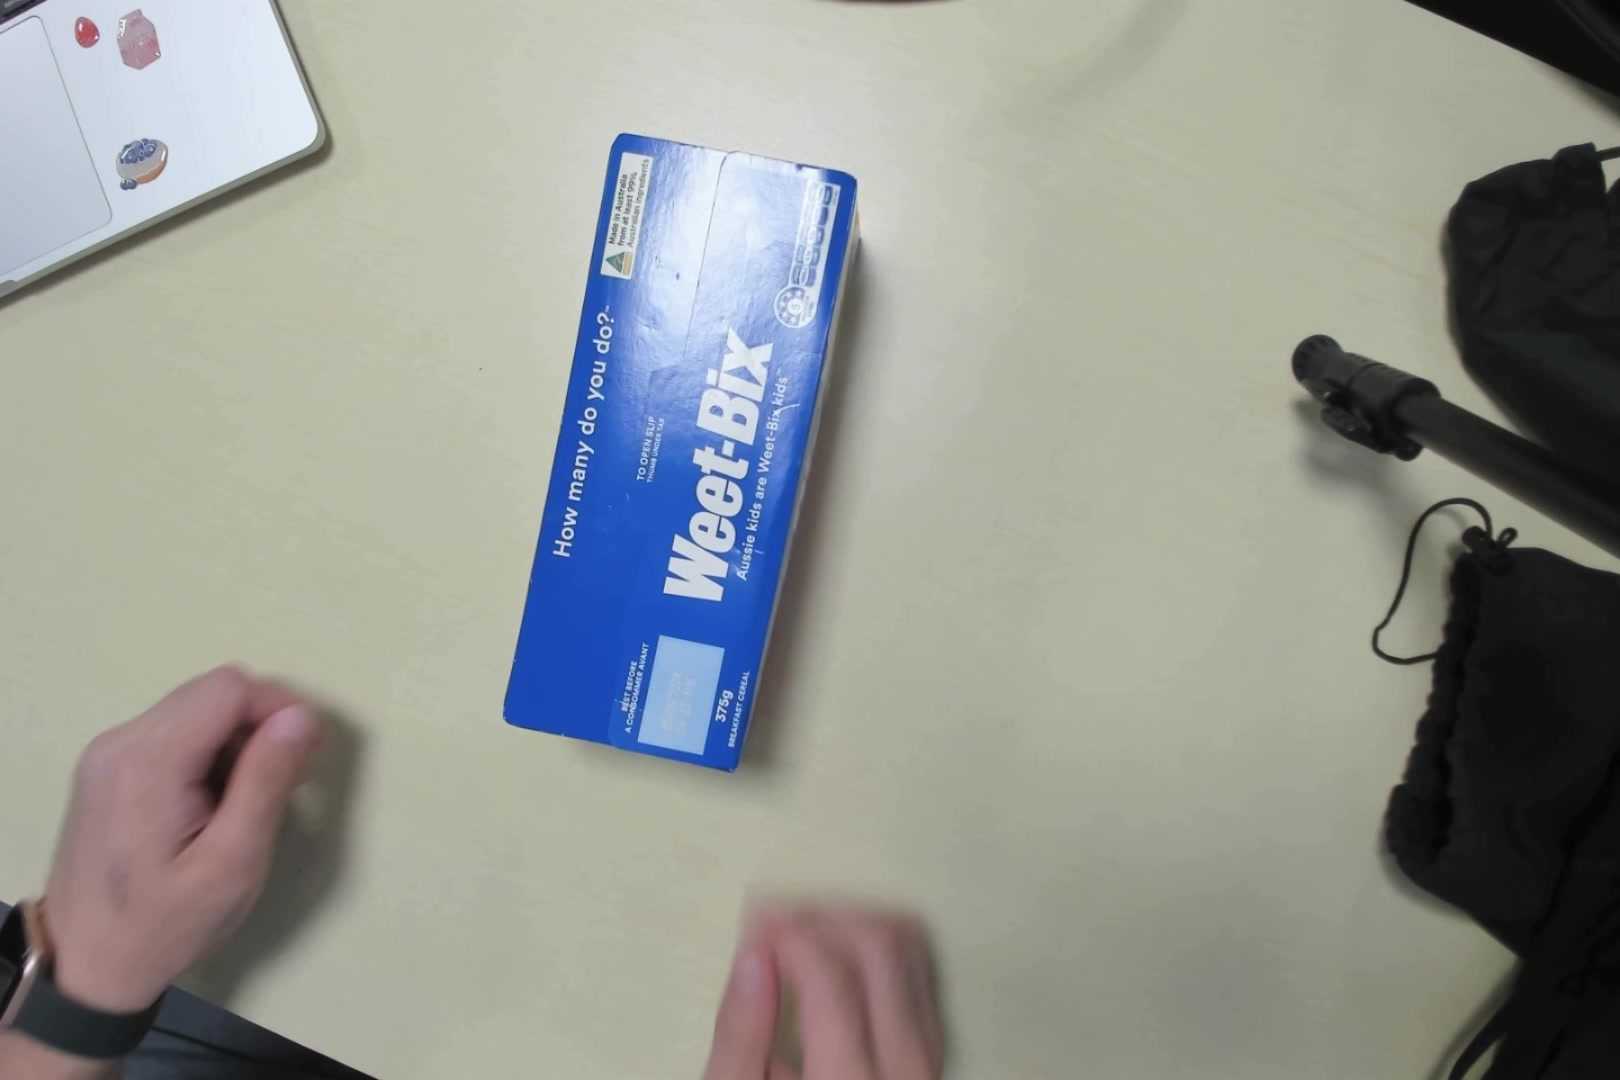BreakfastCereals_300-399g_NonHalal_NonHealthy: (515, 115, 864, 775)
